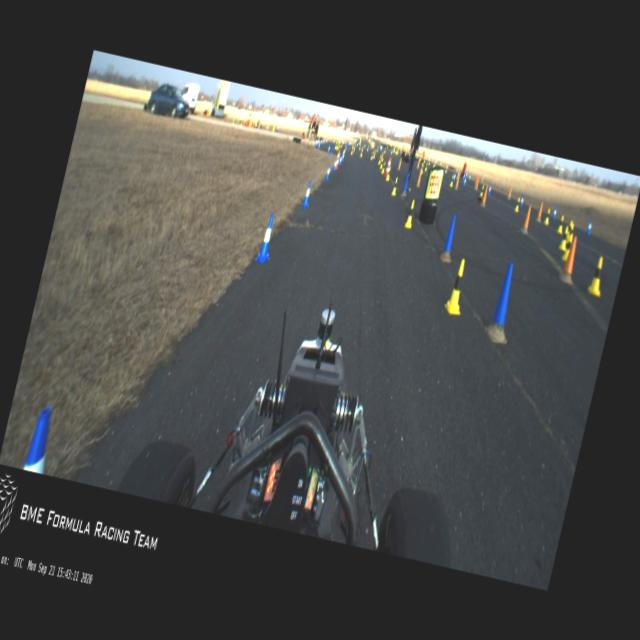blue_cone: (22, 404, 56, 472), (253, 212, 280, 266), (300, 180, 314, 208), (324, 164, 332, 182), (585, 218, 593, 234), (550, 206, 558, 220), (331, 158, 338, 172), (518, 194, 525, 208), (487, 182, 492, 195), (462, 176, 467, 188), (338, 154, 342, 167), (326, 143, 331, 152), (452, 172, 456, 182), (454, 167, 458, 176), (468, 174, 472, 182), (462, 172, 466, 180), (464, 171, 468, 179), (318, 141, 320, 149)
large_orange_cone: (334, 148, 342, 170), (383, 156, 391, 178)
yellow_cone: (443, 258, 472, 316), (586, 254, 608, 296), (560, 232, 574, 262), (404, 200, 416, 228), (558, 226, 570, 252), (556, 214, 566, 233), (566, 222, 575, 242), (542, 207, 551, 226), (513, 196, 521, 212), (391, 178, 398, 195), (385, 165, 392, 181), (342, 143, 348, 157), (378, 157, 384, 170), (381, 161, 386, 174), (449, 174, 454, 187), (349, 143, 354, 156), (369, 150, 374, 160), (480, 184, 484, 196), (444, 163, 448, 174), (359, 148, 363, 157), (427, 157, 431, 166), (377, 156, 381, 164), (420, 166, 424, 174), (424, 162, 428, 170), (432, 160, 436, 168), (420, 161, 424, 169), (334, 140, 337, 150), (336, 142, 339, 150), (335, 142, 338, 150), (390, 147, 393, 154), (384, 146, 386, 154)
